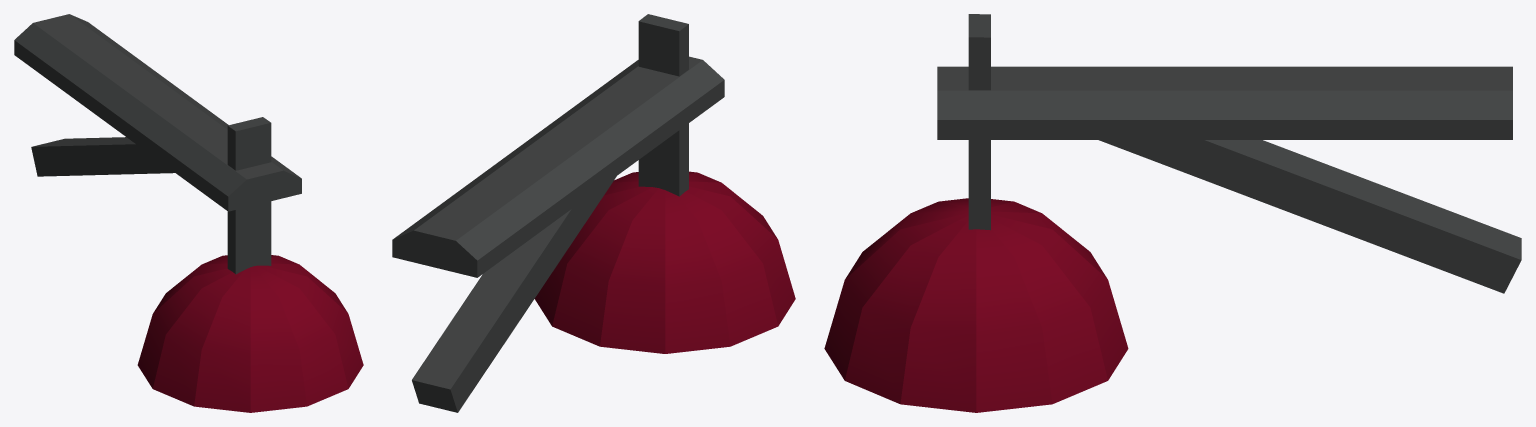
The model's file is Wandleuchte.FBX.
3 renders of one model, left to right at view 1: azimuth 30°, elevation 25°; view 2: azimuth 150°, elevation 25°; view 3: azimuth 270°, elevation 25°, orthographic. The views are drawn at different scales.
Visible parts, largest first — view 1: Lampe; view 2: Lampe; view 3: Lampe.
Part boxes in pixels (<box>): Lampe: <box>14,14,363,412</box>; Lampe: <box>392,14,795,412</box>; Lampe: <box>824,14,1521,412</box>.
Bounding box in the file's own units: 11.86 × 13.9 × 27.18.
